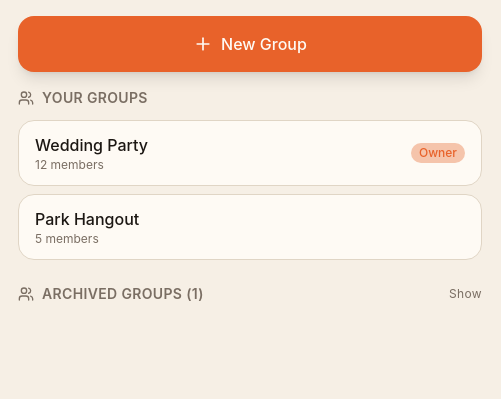
Scenario: DashboardPage › shows archived groups after clicking the toggle
Click the button "Archived groups (1) Show".
click(117, 294)  # box [18,284,482,304]
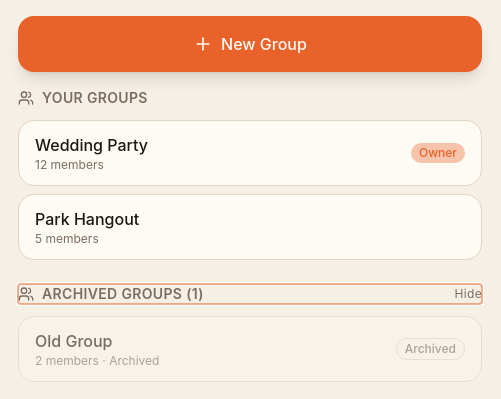
Now the text "Old Group" is shown, box [35,331,112,351]
